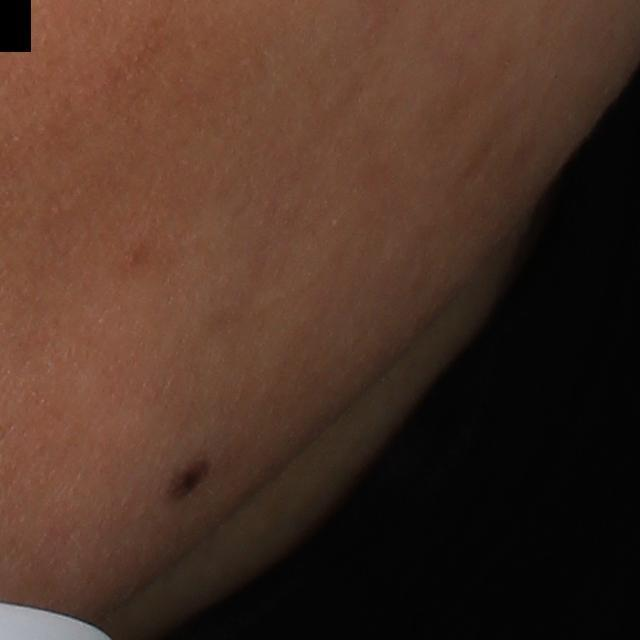nevus: (165, 458, 213, 502)
